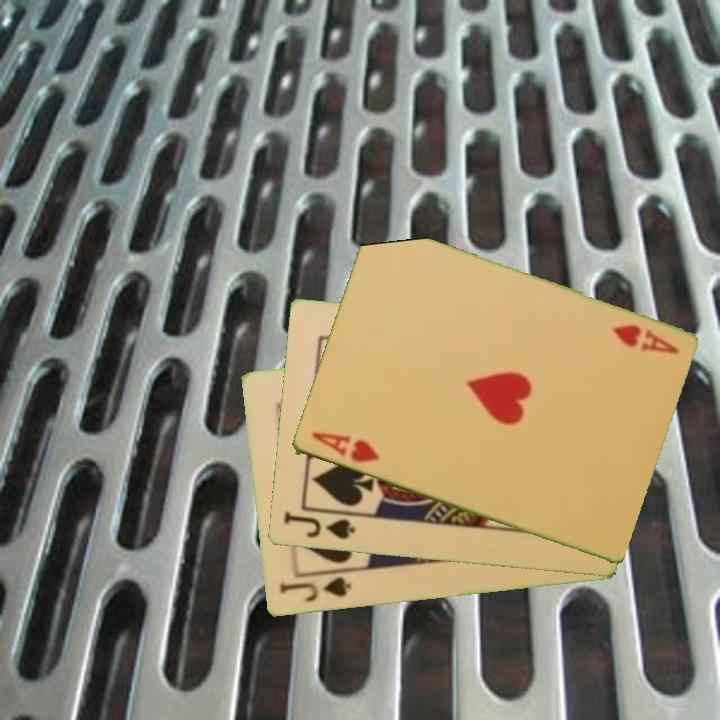Ah: (307, 429, 382, 466), (607, 321, 682, 357)
Js: (280, 508, 358, 543), (276, 574, 354, 605)
